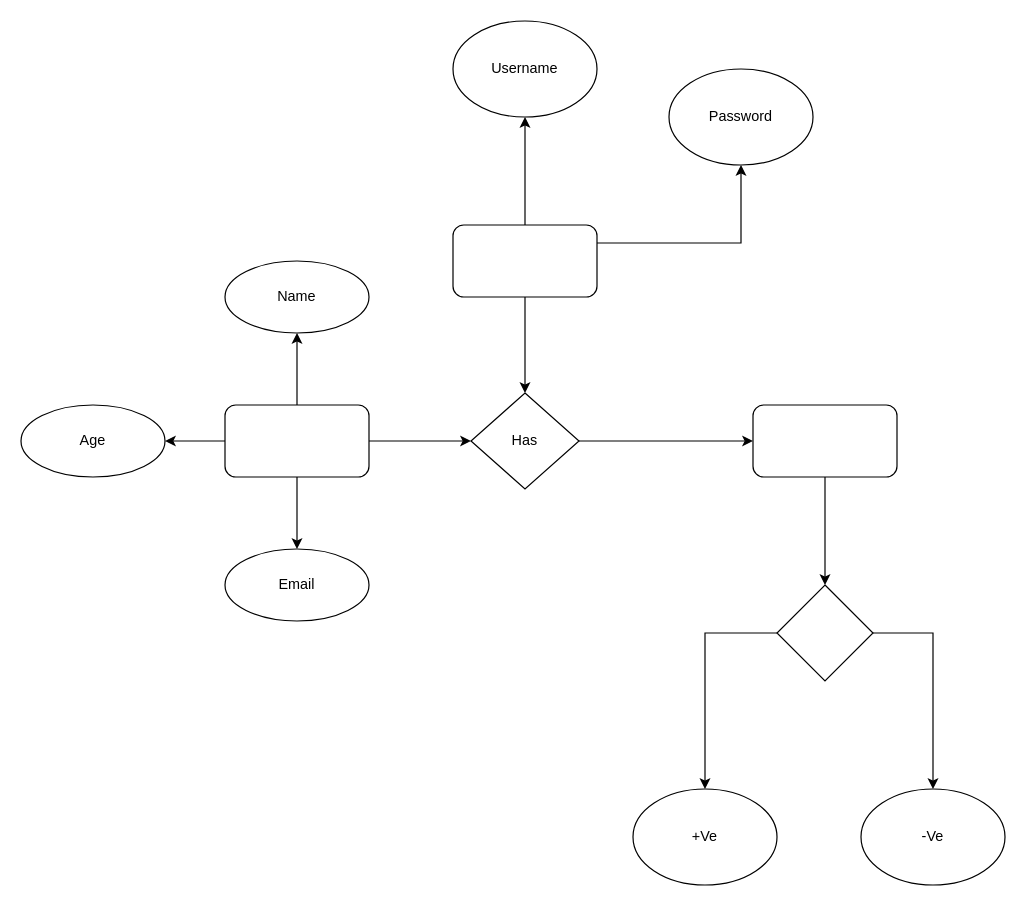
This 1026x906 diagram has some shape labels left out. Each missing label, with the centre of its shape:
"Check" goes at [824,632].
"Fake News" goes at [824,440].
"Login" goes at [524,260].
"User" goes at [296,440].
